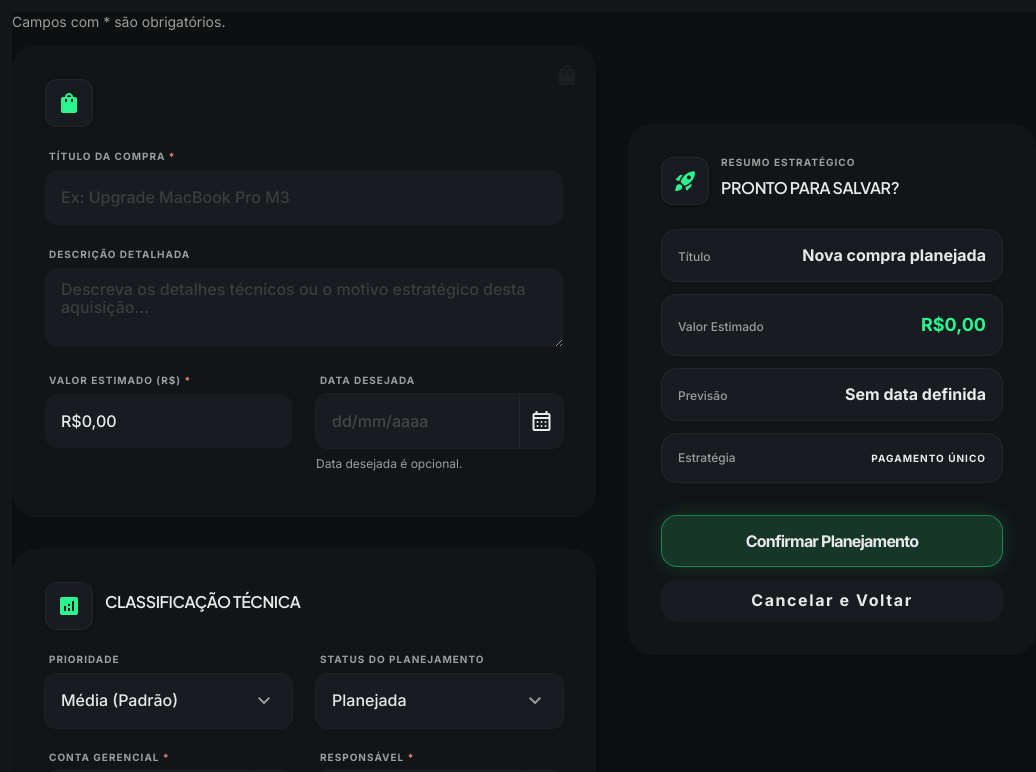
Test: NovaCompraPlanejadaPage › solicita campos obrigatórios ao confirmar em vez de bloquear silenciosamente
Expected: the heading "Classificação Técnica" is shown, [105,593,300,611]
Click the button "Confirmar Planejamento": click(832, 541) [661,515,1003,567]
(page scrolled)
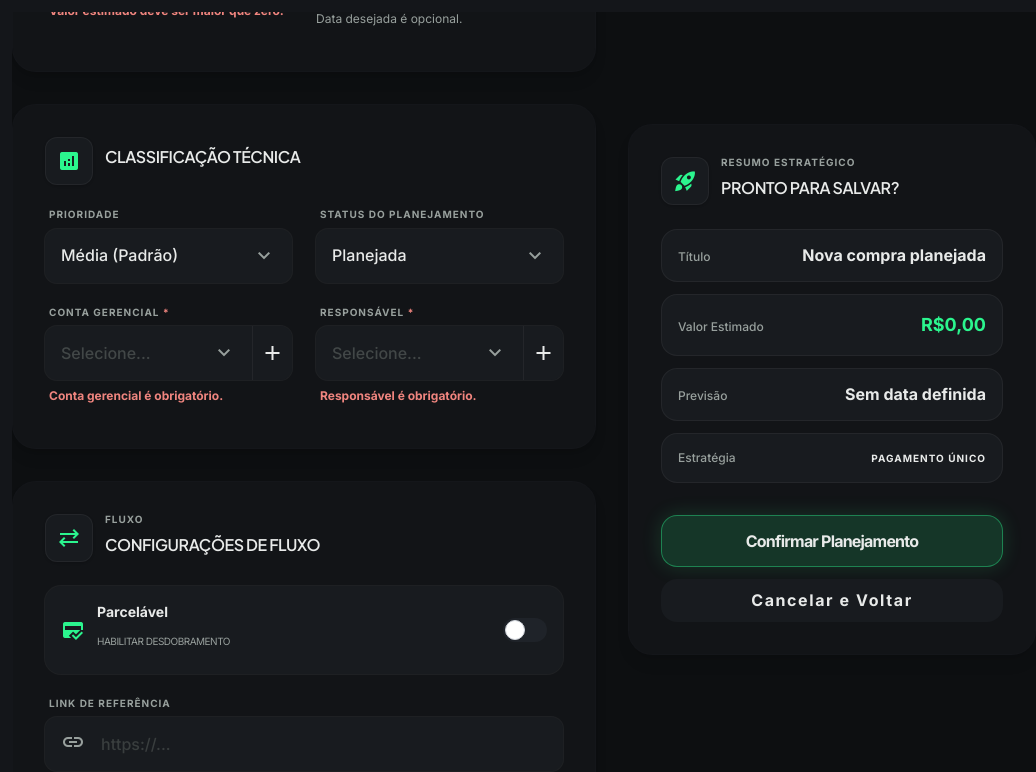
Now the text "Responsável é obrigatório." is shown, box [320,388,477,403]
